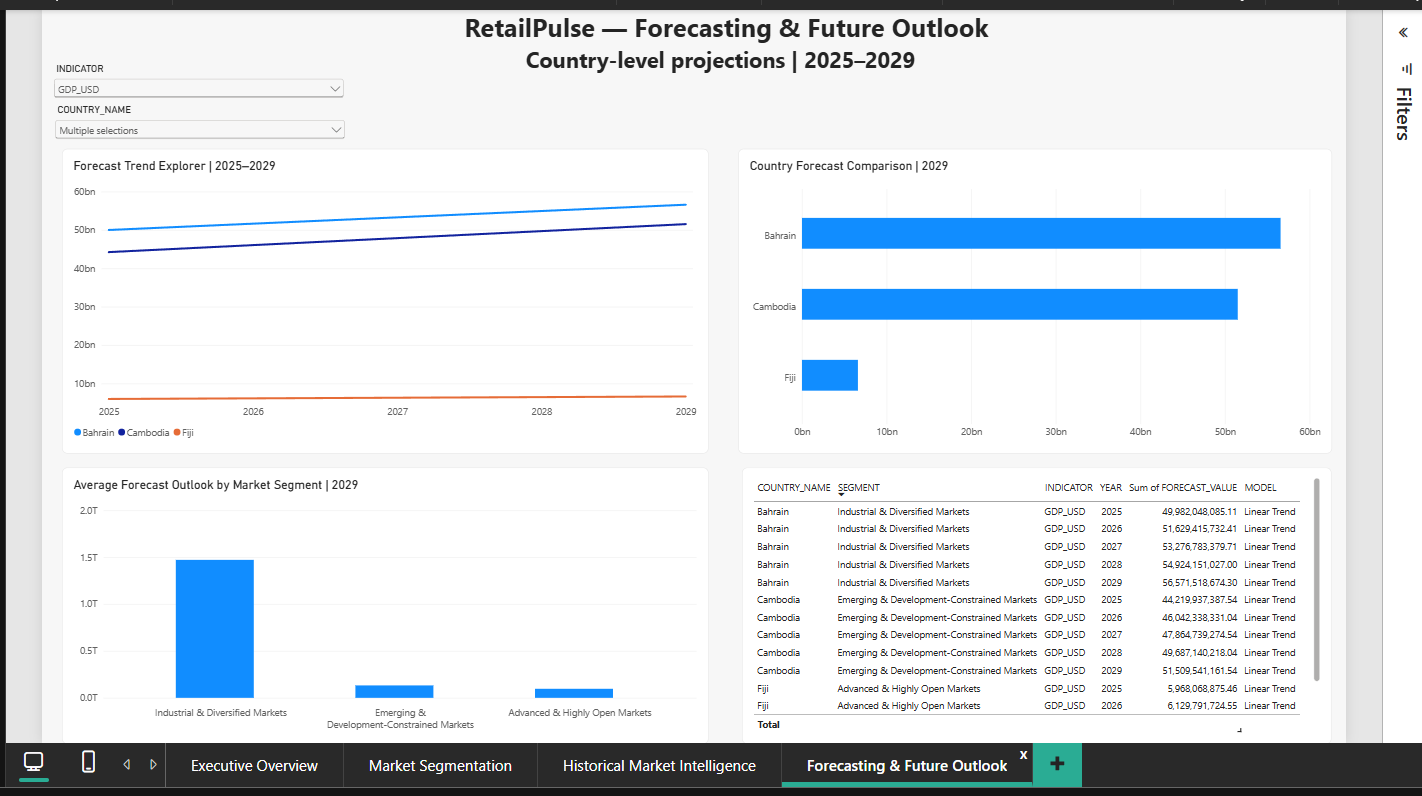

The page's visual inventory and layout, read from the dashboard file:
{"tool":"powerbi","page":{"name":"Forecasting & Future Outlook","canvas":[1920,1080],"ordinal":3},"visuals":[{"type":"textbox","box":[622.1,0,817.2,51.5],"z":0},{"type":"textbox","box":[712,51.3,624.3,51.3],"z":1},{"type":"lineChart","title":"Forecast Trend Explorer | 2025–2029","fields":{"Category":["market_forecasts.YEAR"],"Series":["market_forecasts.COUNTRY_NAME"],"Y":["Sum(market_forecasts.FORECAST_VALUE)"]},"box":[29.2,204.5,951.7,448.7],"z":2},{"type":"slicer","fields":{"Values":["market_forecasts.COUNTRY_NAME"]},"box":[14.6,137.7,436.2,66.3],"z":3},{"type":"slicer","fields":{"Values":["market_forecasts.INDICATOR"]},"box":[12.5,77.2,436.2,60.7],"z":4},{"type":"clusteredBarChart","title":"Country Forecast Comparison | 2029","fields":{"Category":["market_forecasts.COUNTRY_NAME"],"Y":["Sum(market_forecasts.FORECAST_VALUE)"]},"box":[1024.7,204.5,874.4,448.7],"z":5},{"type":"clusteredColumnChart","title":"Average Forecast Outlook by Market Segment | 2029","fields":{"Category":["market_forecasts.SEGMENT"],"Y":["Avg(market_forecasts.FORECAST_VALUE)"]},"box":[29.2,674.1,951.7,407],"z":6},{"type":"tableEx","fields":{"Values":["market_forecasts.COUNTRY_NAME","market_forecasts.SEGMENT","market_forecasts.INDICATOR","market_forecasts.YEAR","select","Sum(market_forecasts.FORECAST_VALUE)","market_forecasts.MODEL"]},"box":[1031,674.1,868.2,407],"z":7}]}

Visuals, with their boxes on the page's 1920x1080 design canvas (x1, y1, x2, y2). These are canvas units, not pixel positions in the 1422x796 screenshot, which may show the page scaled, cropped or inside an application window:
textbox: x1=622, y1=0, x2=1439, y2=52
textbox: x1=712, y1=51, x2=1336, y2=103
"Forecast Trend Explorer | 2025–2029" lineChart: x1=29, y1=204, x2=981, y2=653
slicer - market_forecasts.COUNTRY_NAME: x1=15, y1=138, x2=451, y2=204
slicer - market_forecasts.INDICATOR: x1=12, y1=77, x2=449, y2=138
"Country Forecast Comparison | 2029" clusteredBarChart: x1=1025, y1=204, x2=1899, y2=653
"Average Forecast Outlook by Market Segment | 2029" clusteredColumnChart: x1=29, y1=674, x2=981, y2=1081
tableEx - market_forecasts.COUNTRY_NAME x market_forecasts.SEGMENT: x1=1031, y1=674, x2=1899, y2=1081
